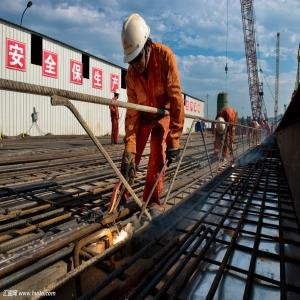white: (122, 14, 151, 74), (216, 117, 228, 136), (114, 89, 120, 100), (255, 122, 260, 130), (263, 119, 266, 124), (256, 118, 258, 122)
